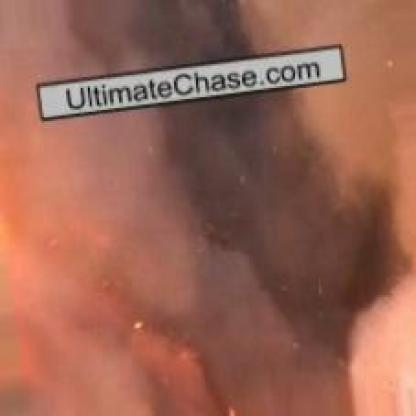smoke: (19, 122, 403, 400)
